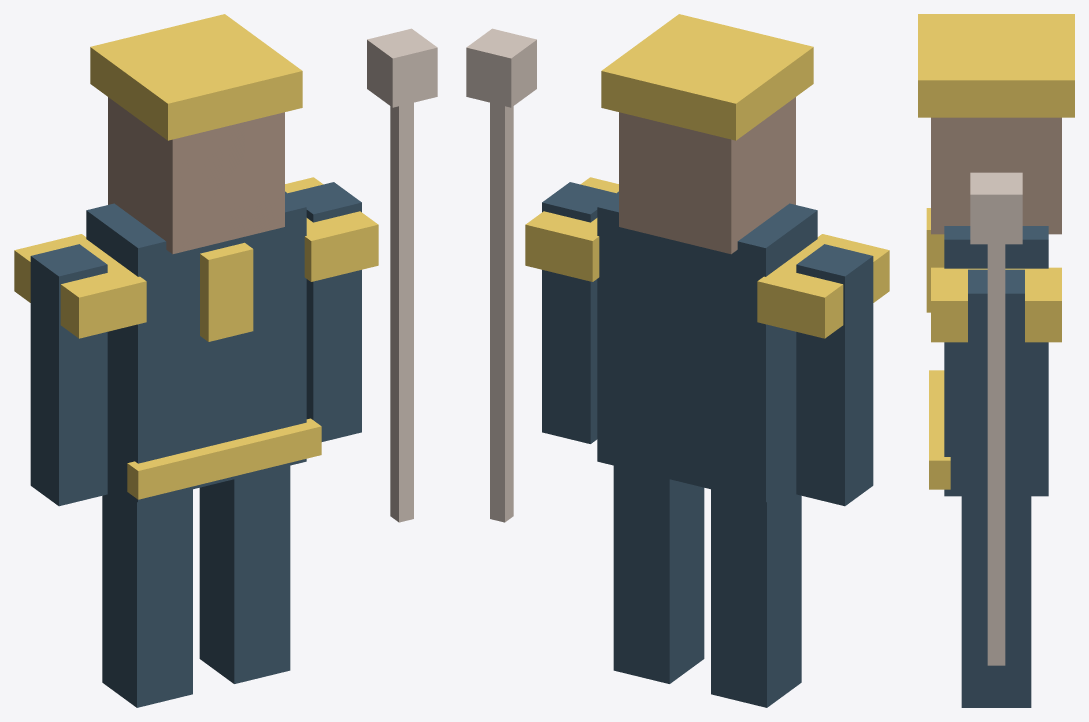
File: 03_tovin_frostrelay_mechanist_under_command.glb
3 renders of one model, left to right at view 1: azimuth 30°, elevation 25°; view 2: azimuth 150°, elevation 25°; view 3: azimuth 270°, elevation 25°, orthographic.
Visible parts, largest first — view 1: Tovin Frostrelay, Mechanist under Command; view 2: Tovin Frostrelay, Mechanist under Command; view 3: Tovin Frostrelay, Mechanist under Command.
Part boxes in pixels (box(x1,y1,x2,y2)): Tovin Frostrelay, Mechanist under Command: box(14, 14, 437, 707); Tovin Frostrelay, Mechanist under Command: box(466, 14, 889, 707); Tovin Frostrelay, Mechanist under Command: box(918, 14, 1074, 707).
Bounding box in the file's own units: 1.01 × 1.56 × 0.3568.
